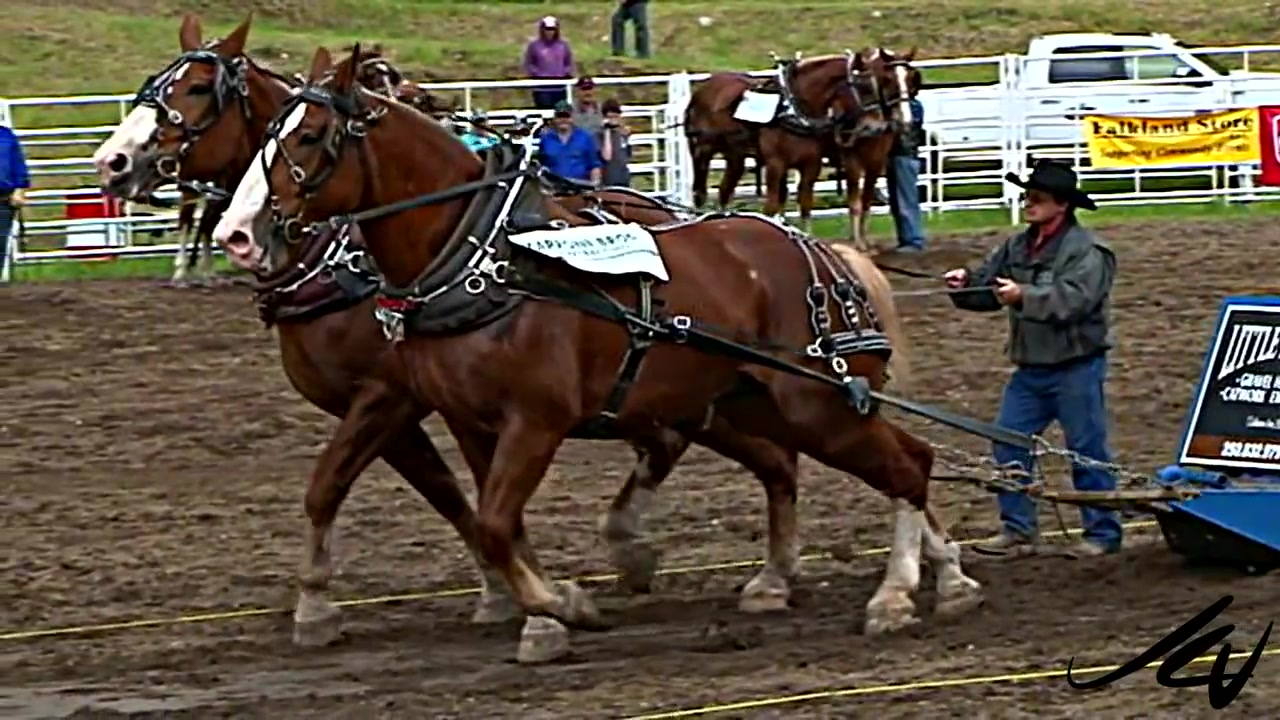horse: (213, 41, 987, 665)
